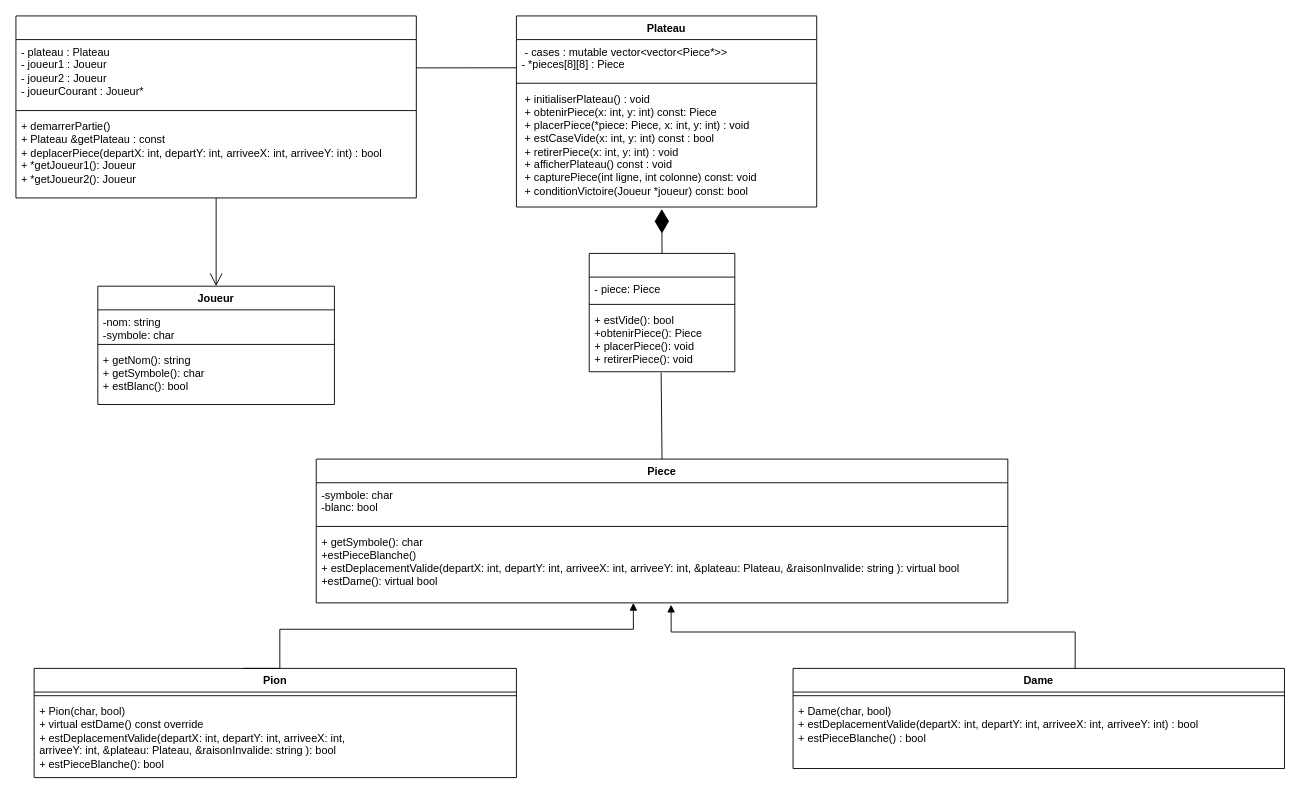
The diagram is 1300 pixels wide and 796 high, and some of its shapes have lost their labels. The box of each missing label's shape, as (x1, y1, x2, y2) in pixels:
Case: (588, 253, 735, 372)
Jeu: (15, 15, 416, 198)
